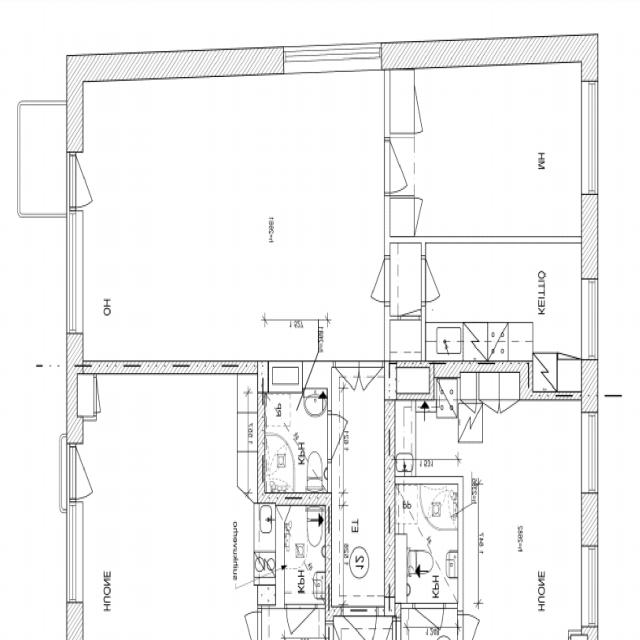door: (66, 155, 117, 207), (384, 140, 423, 193), (357, 258, 390, 302), (328, 414, 360, 459), (422, 259, 453, 302), (359, 360, 383, 404), (336, 360, 359, 404), (400, 286, 420, 320)
